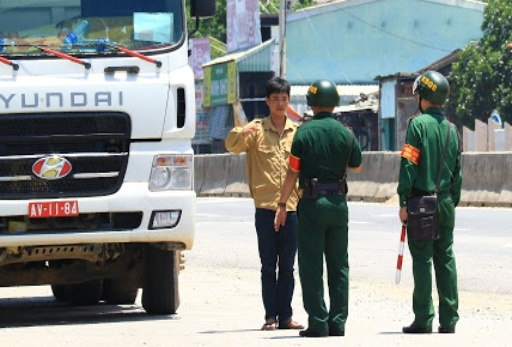plate: (28, 201, 78, 217)
